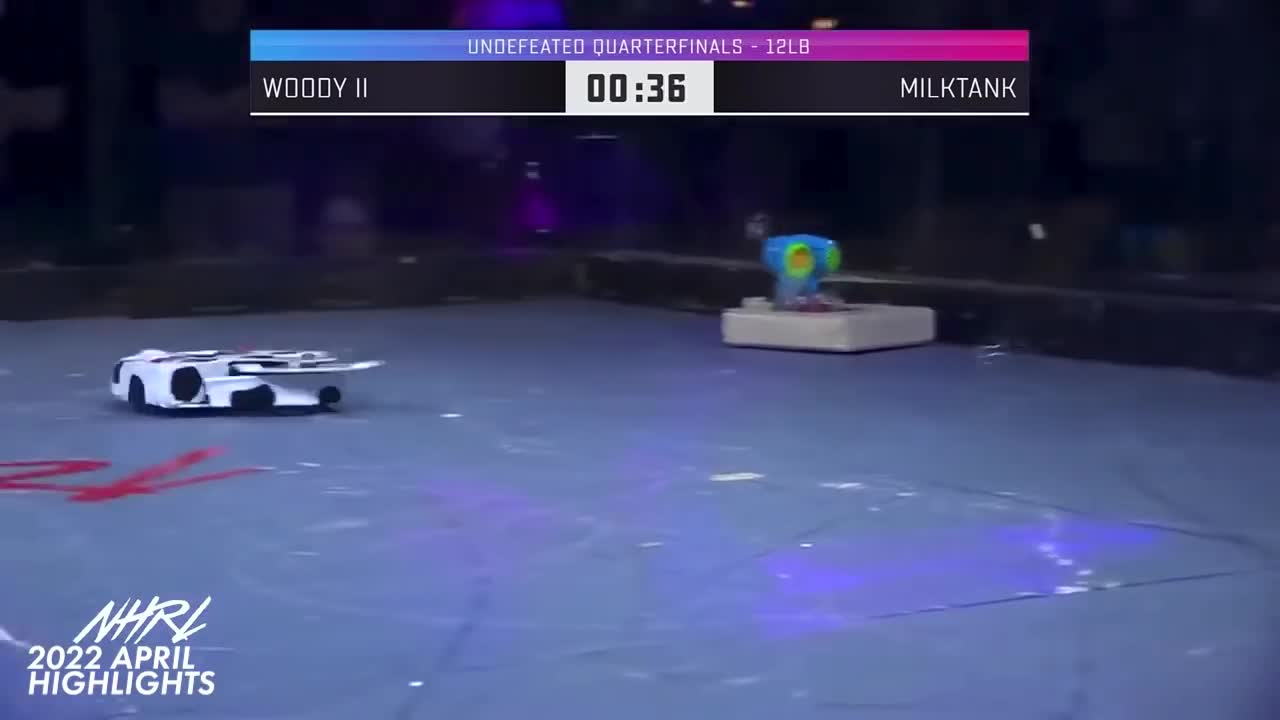combatbot: (719, 231, 937, 354), (107, 345, 383, 421)
